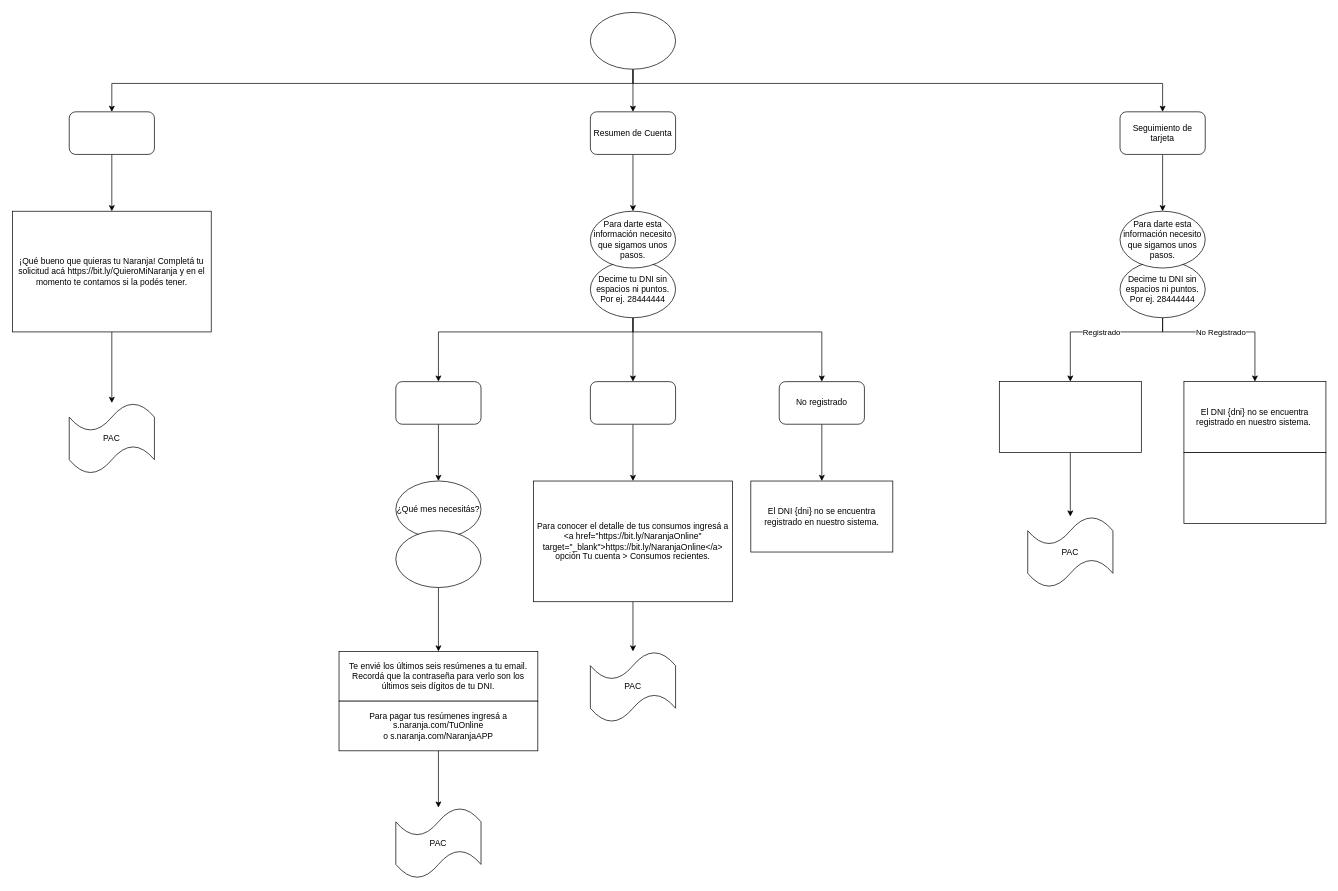
Some shapes in this 1338 by 891 pixel diagram are drawn without their labels. Here are the shapes that lost their labels. From the top down, the box of each, then its label:
(590, 12, 676, 69): Hola, ¿En qué te puedo ayudar?
(69, 111, 154, 154): Solicitud de tarjeta
(395, 381, 481, 424): 28655407 - Titular
(590, 381, 676, 424): Adicional
(999, 381, 1141, 453): El estado de la tarjeta es: {status}
(1183, 452, 1326, 524): Compruebe que sea correcto e intente nuevamente
(395, 530, 481, 588): - Abril - Mayo - Otros
